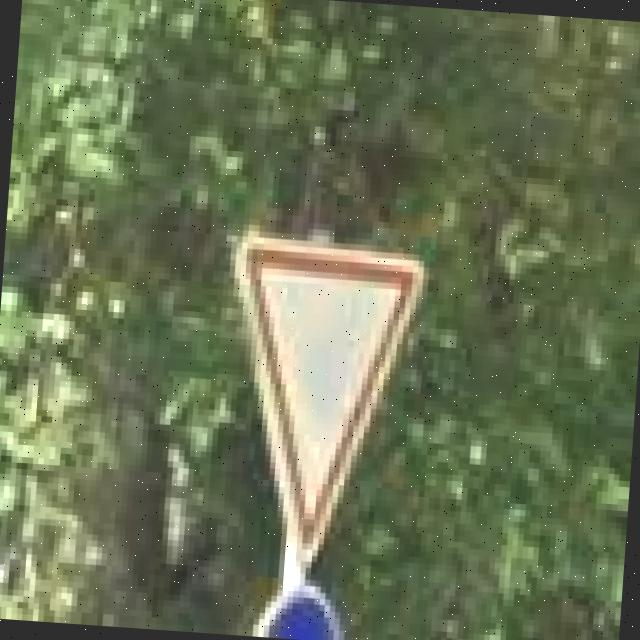Ustap pierwszenstwa: (214, 230, 430, 574)
